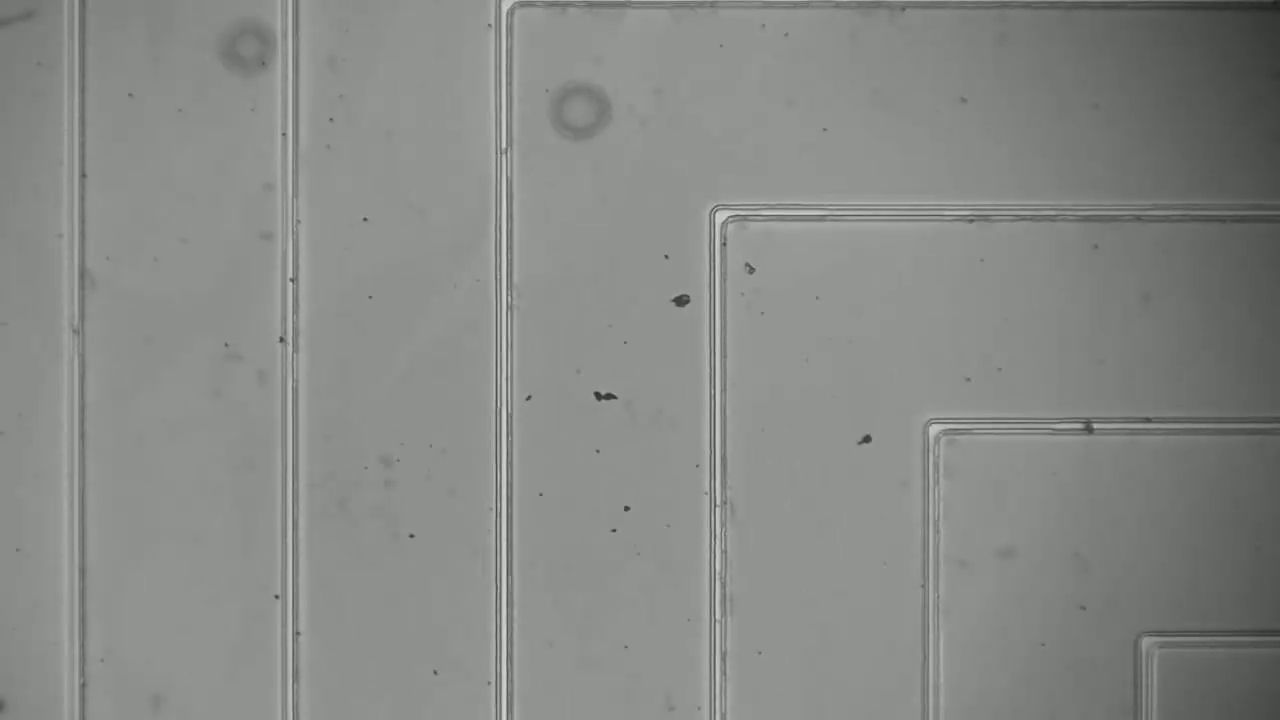stains_enbedded: (1077, 407, 1105, 444)
